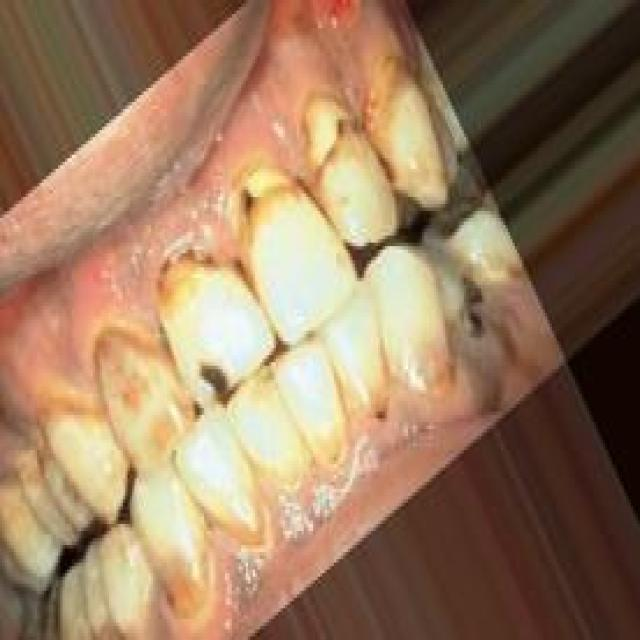caries: (221, 153, 296, 249), (294, 93, 361, 179), (453, 267, 498, 366), (190, 346, 247, 418), (150, 234, 222, 284)
